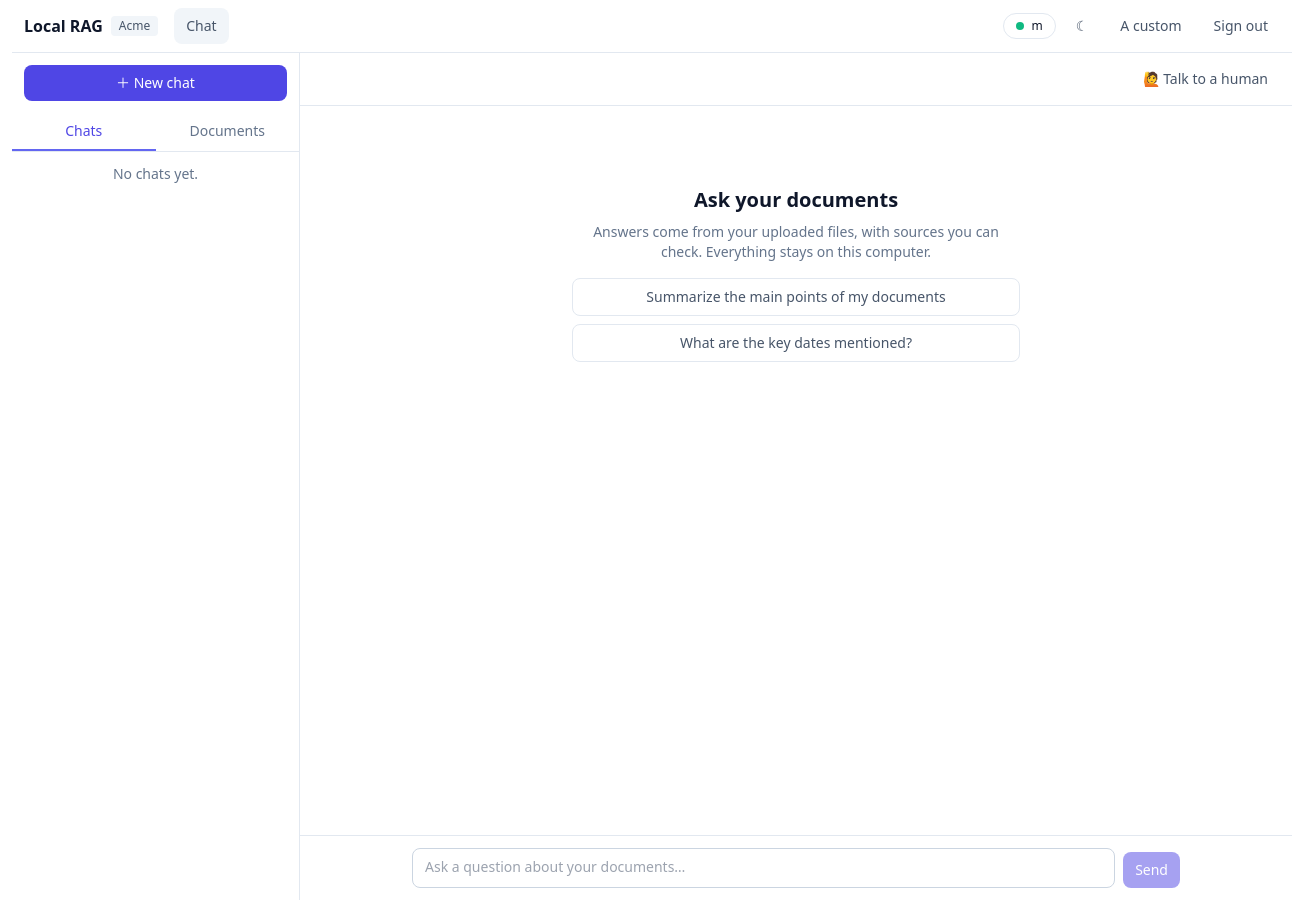
App navigation follows permissions › does not ask for documents a role may not list
The image size is (1292, 900).
Expected: the text "Local RAG" is shown, [24,14,103,38]
Click the tab "Documents".
click(227, 132)  # box [156,113,299,151]
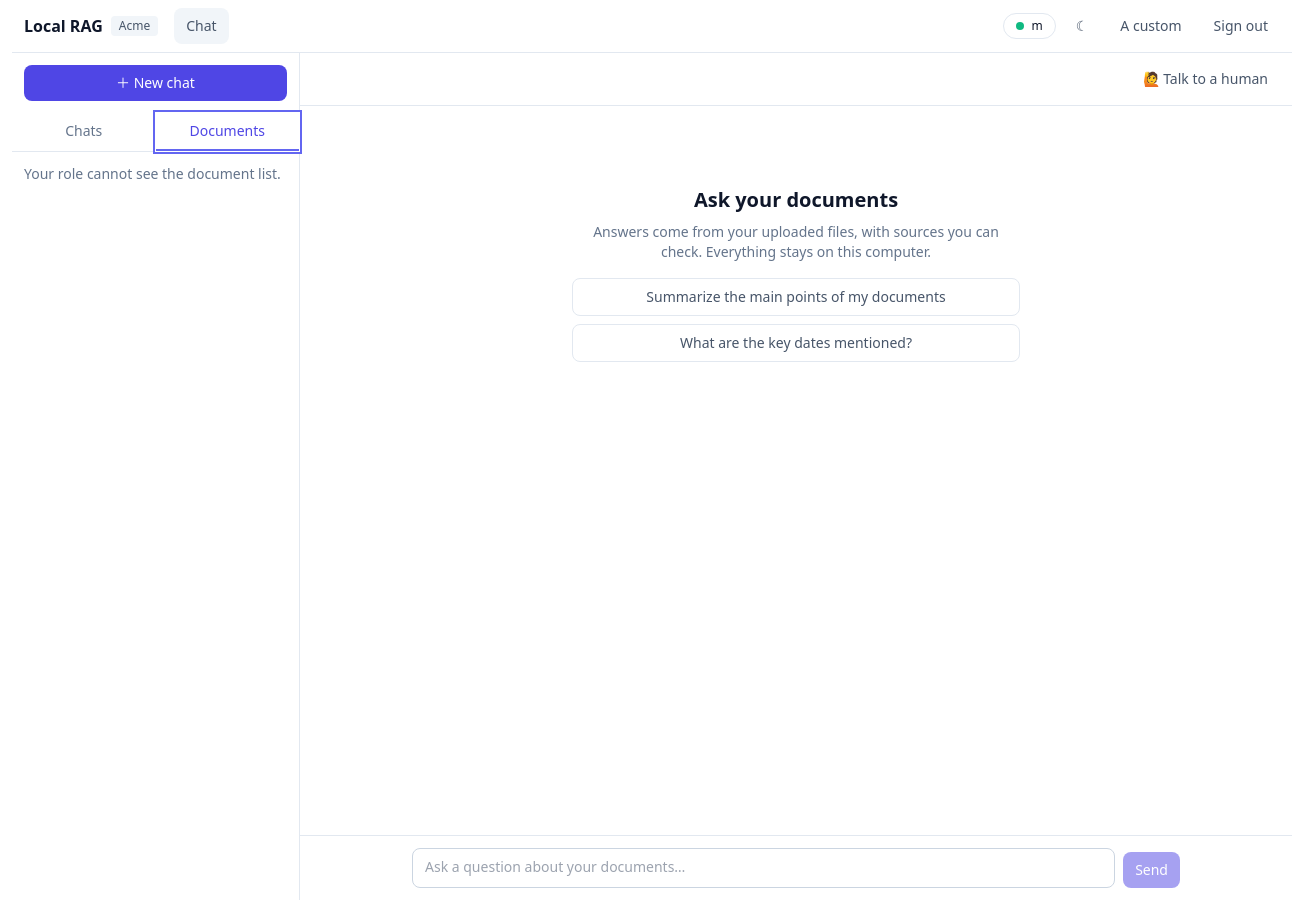
Now the text "Your role cannot see the document list." is shown, box [24,164,287,184]
